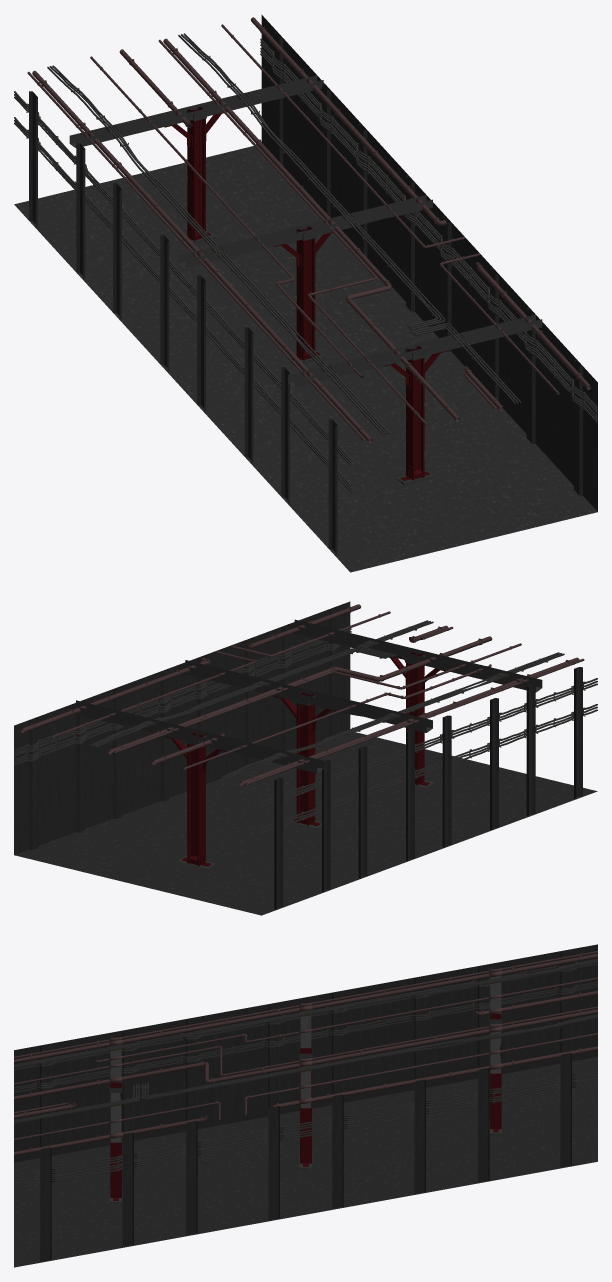
The model's file is SW_ENV_RailTunnel_TrackRise_Double_20m_FF.fbx.
The picture shows the model from 3 angles, top to bottom: view 1: azimuth 30°, elevation 25°; view 2: azimuth 150°, elevation 25°; view 3: azimuth 270°, elevation 25°; orthographic projection. The views are drawn at different scales.
Visible parts, largest first — view 1: SW_ENV_RailTunnel_TrackRise_Double_20m_FF; view 2: SW_ENV_RailTunnel_TrackRise_Double_20m_FF; view 3: SW_ENV_RailTunnel_TrackRise_Double_20m_FF.
Part boxes in pixels (x1,y1,x2,y2): SW_ENV_RailTunnel_TrackRise_Double_20m_FF: (14,15,597,572); SW_ENV_RailTunnel_TrackRise_Double_20m_FF: (14,601,597,915); SW_ENV_RailTunnel_TrackRise_Double_20m_FF: (14,944,597,1267).
Size of the model in its own units: 8.5 by 8.25 by 20.
